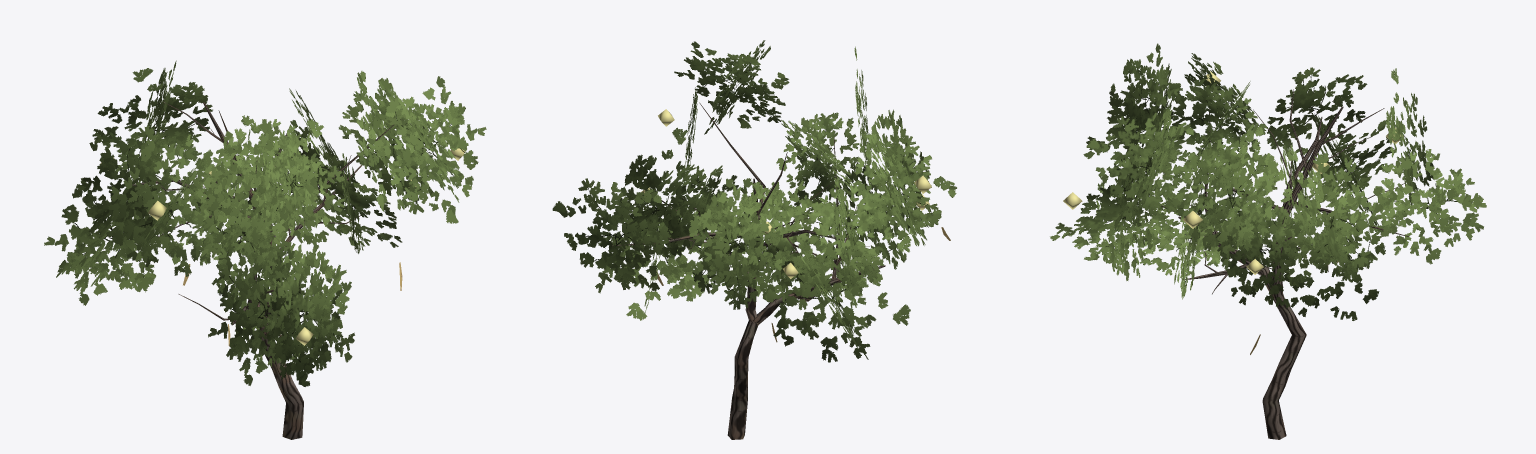
Rendered from young-b.lod1.glb.
3 renders of one model, left to right at view 1: azimuth 30°, elevation 25°; view 2: azimuth 150°, elevation 25°; view 3: azimuth 270°, elevation 25°, orthographic. The views are drawn at different scales.
Parts seen in each view (by area): view 1: foliage, bark, flowers; view 2: foliage, bark, flowers; view 3: foliage, bark, flowers.
Boxes of the visible parts, x1,y1,x2,y2 form: foliage: (44, 60, 486, 386); bark: (125, 101, 400, 439); flowers: (100, 148, 466, 345); foliage: (552, 40, 956, 362); bark: (612, 102, 885, 439); flowers: (641, 109, 931, 278); foliage: (1050, 43, 1486, 320); bark: (1161, 89, 1408, 439); flowers: (1063, 71, 1404, 274).
Size of the model in its own units: 3.91 by 3.8 by 4.59.
Materials: 4 (3 with a texture image).
